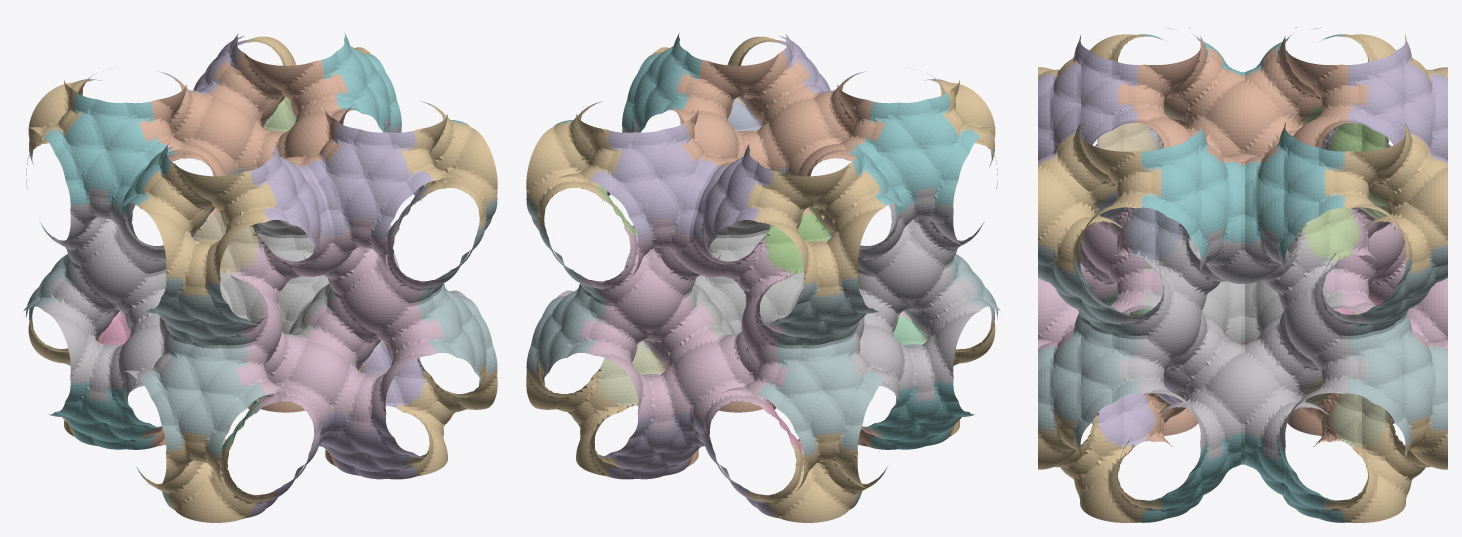
File: 04_regions_pbc.glb
3 views of the same model, side by side, from view 1: azimuth 30°, elevation 25°; view 2: azimuth 150°, elevation 25°; view 3: azimuth 270°, elevation 25° (orthographic). The views are drawn at different scales.
Visible parts, largest first — view 1: 04_regions_pbc_trace0_mesh0; view 2: 04_regions_pbc_trace0_mesh0; view 3: 04_regions_pbc_trace0_mesh0.
Part boxes in pixels (x1,y1,x2,y2): 04_regions_pbc_trace0_mesh0: [23, 33, 497, 522]; 04_regions_pbc_trace0_mesh0: [526, 33, 1000, 522]; 04_regions_pbc_trace0_mesh0: [1038, 27, 1447, 522].
Size of the model in its own units: 26.09 by 26.09 by 26.09.
